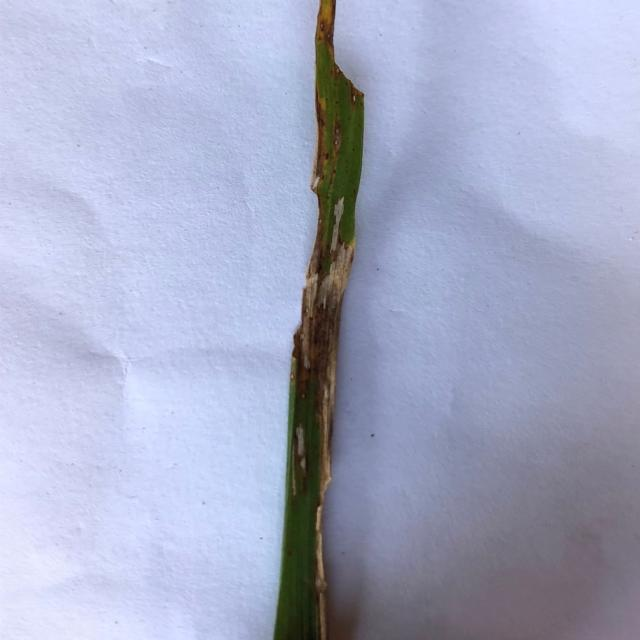leaf blight: (286, 197, 362, 504), (306, 503, 336, 640), (312, 85, 346, 189), (312, 0, 338, 50)
